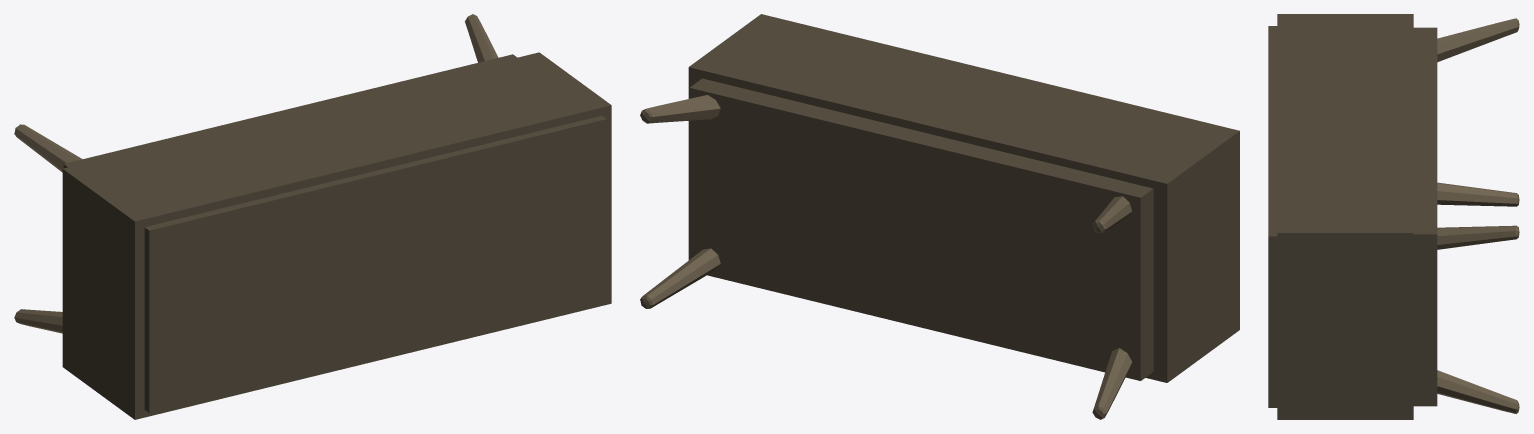
The model's file is dresser-1.obj.
The picture shows the model from 3 angles, left to right: view 1: azimuth 30°, elevation 25°; view 2: azimuth 150°, elevation 25°; view 3: azimuth 270°, elevation 25°; orthographic projection. The views are drawn at different scales.
Parts seen in each view (by area): view 1: dresser-1; view 2: dresser-1; view 3: dresser-1.
Boxes of the visible parts, bbox=[...] form: dresser-1: bbox=[14, 14, 611, 419]; dresser-1: bbox=[640, 14, 1239, 419]; dresser-1: bbox=[1268, 14, 1519, 419].
Size of the model in its own units: 66.09 by 26.46 by 32.
